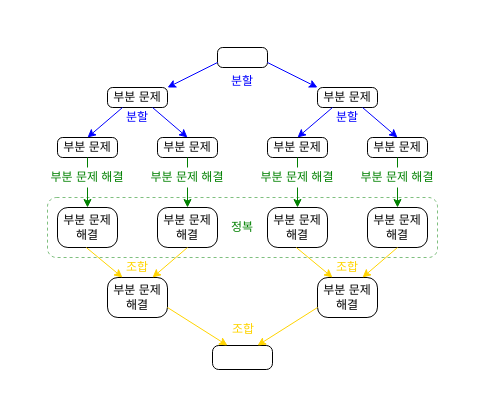
The diagram is 485 pixels wide and 415 high, and some of its shapes have lost their labels. The shapes that lost their labels are listed below. From the top down, each one's centre as x and y in pixels, then its label:
At point (242, 57): "문제".
At point (242, 357): "최종 해답".
